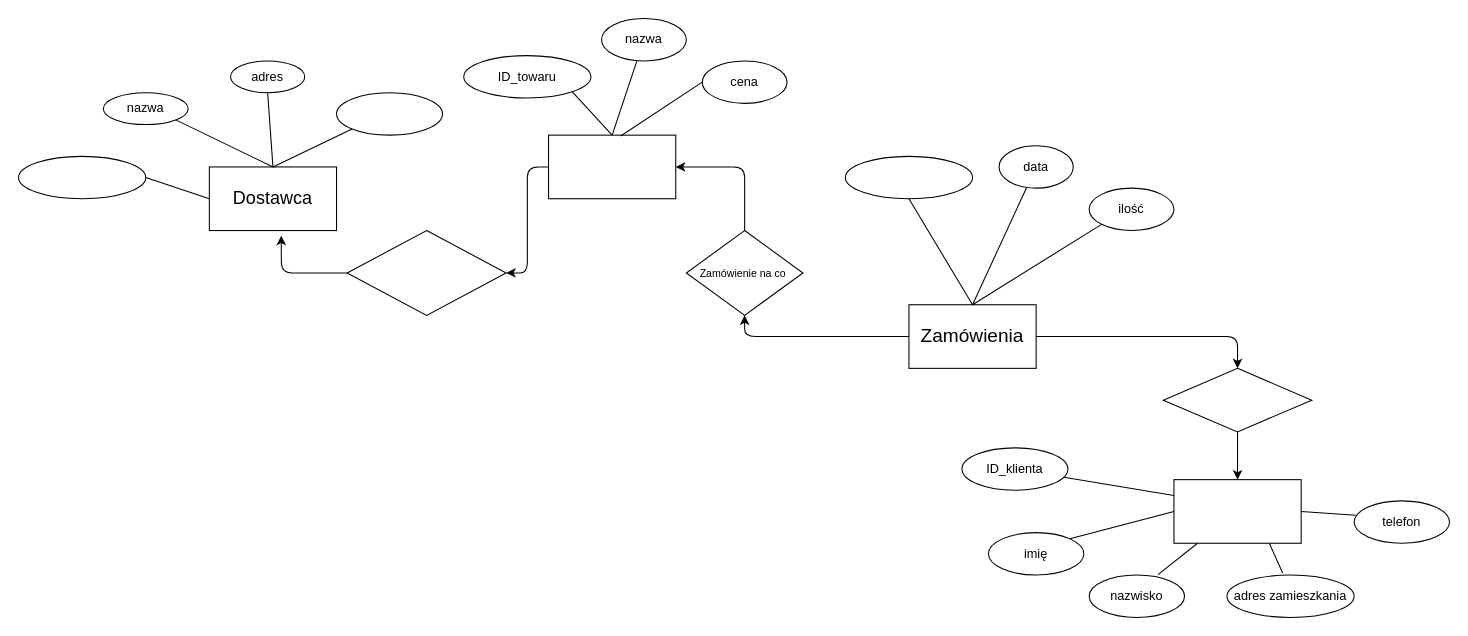
Image size: 1468x636. Some labels were removed from this diagram. The centre of each missing label's shape, as x and y in pixels:
"ID_dostawcy" goes at point (81, 177).
"ID_zamówienia" goes at point (908, 177).
"Klienci" goes at point (1237, 511).
"rynek zbytu" goes at point (389, 113).
"Towary" goes at point (611, 166).
"Towary od kogo" goes at point (426, 272).
"Zamówienia kogo" goes at point (1237, 399).
